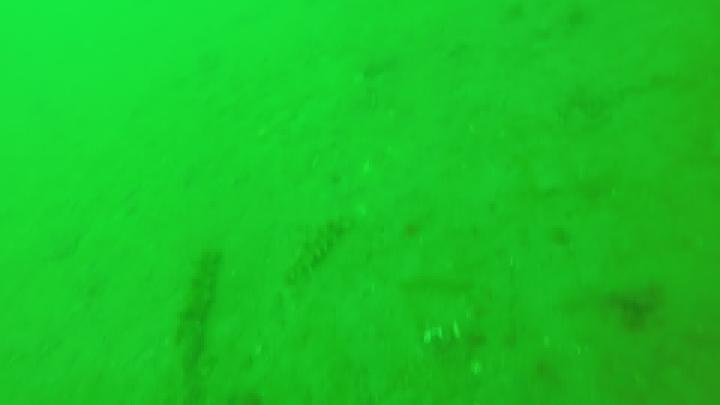holothurian: (173, 249, 223, 365), (282, 219, 358, 274)
